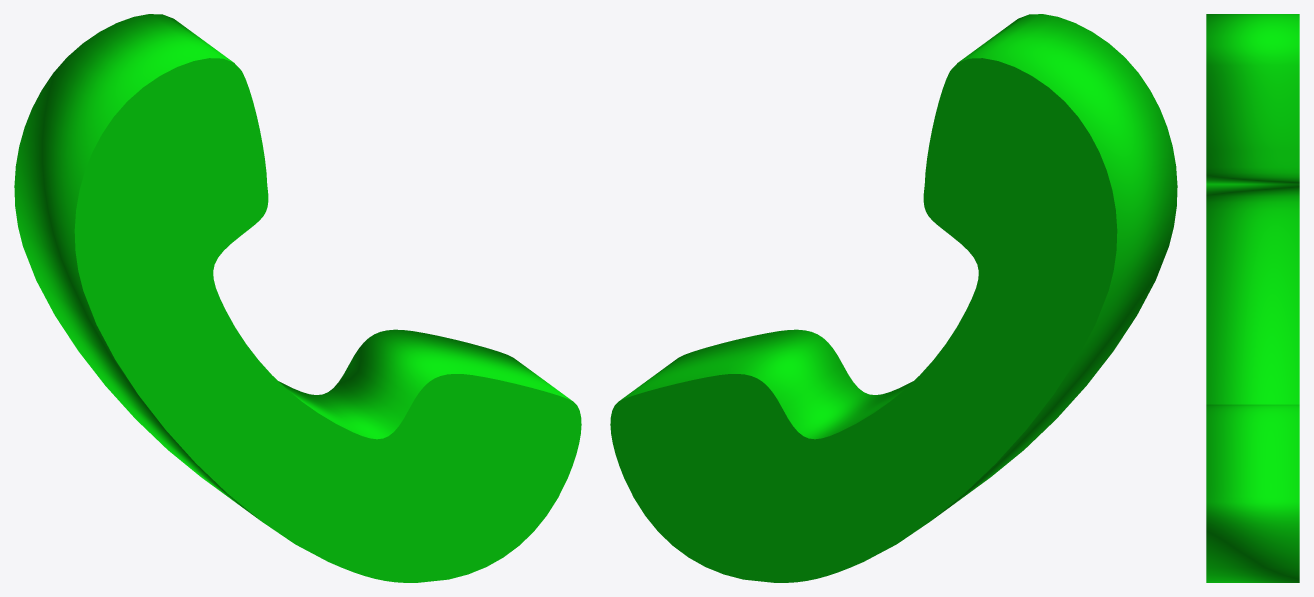
Rendered from phone.glb.
3 renders of one model, left to right at view 1: azimuth 30°, elevation 25°; view 2: azimuth 150°, elevation 25°; view 3: azimuth 270°, elevation 25°, orthographic. The views are drawn at different scales.
Parts seen in each view (by area): view 1: layer1; view 2: layer1; view 3: layer1.
Part boxes in pixels (bbox=[...]): layer1: bbox=[14, 14, 581, 582]; layer1: bbox=[610, 14, 1177, 582]; layer1: bbox=[1206, 14, 1299, 582].
Bounding box in the file's own units: 0.9711 × 1.06 × 0.2.
